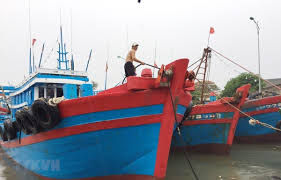tau_dansu: (7, 63, 182, 180), (184, 82, 245, 155), (241, 77, 281, 147)
